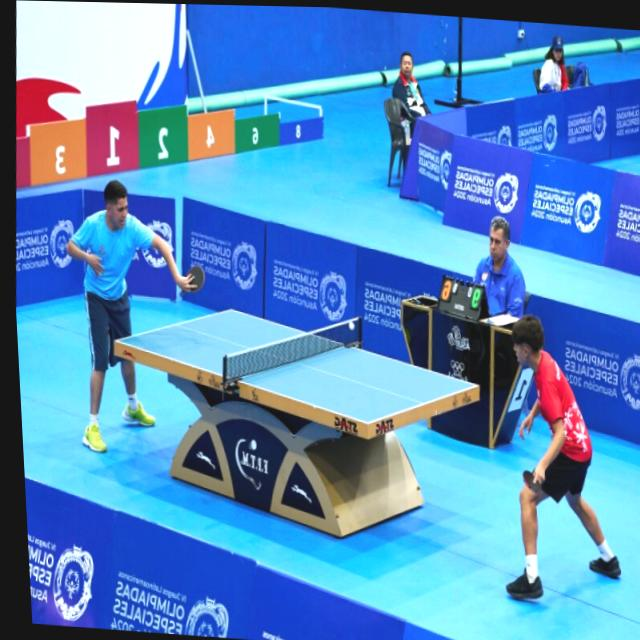TT Net: (221, 313, 364, 386)
TT Racket: (182, 261, 211, 297), (519, 465, 545, 496)
TT Table: (116, 308, 477, 424)
